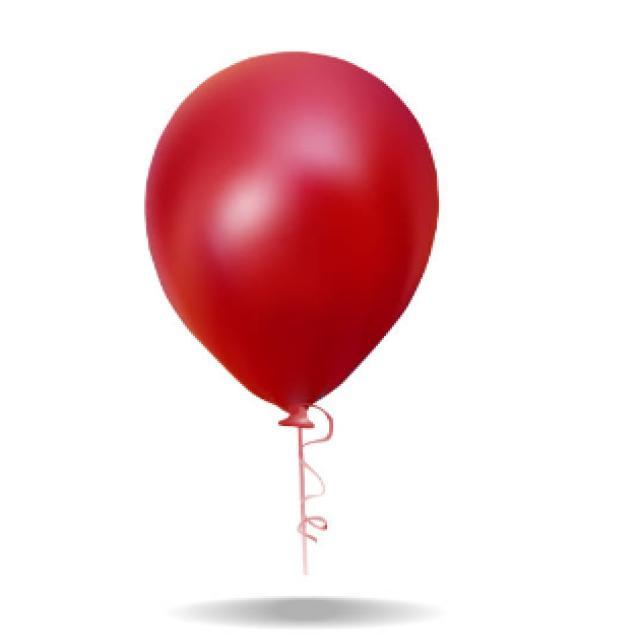red: (139, 46, 443, 431)
